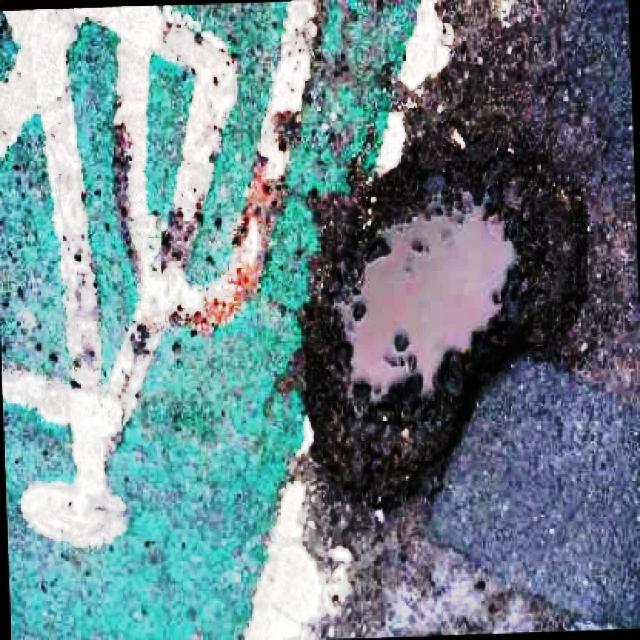pothole: (290, 126, 618, 512)
